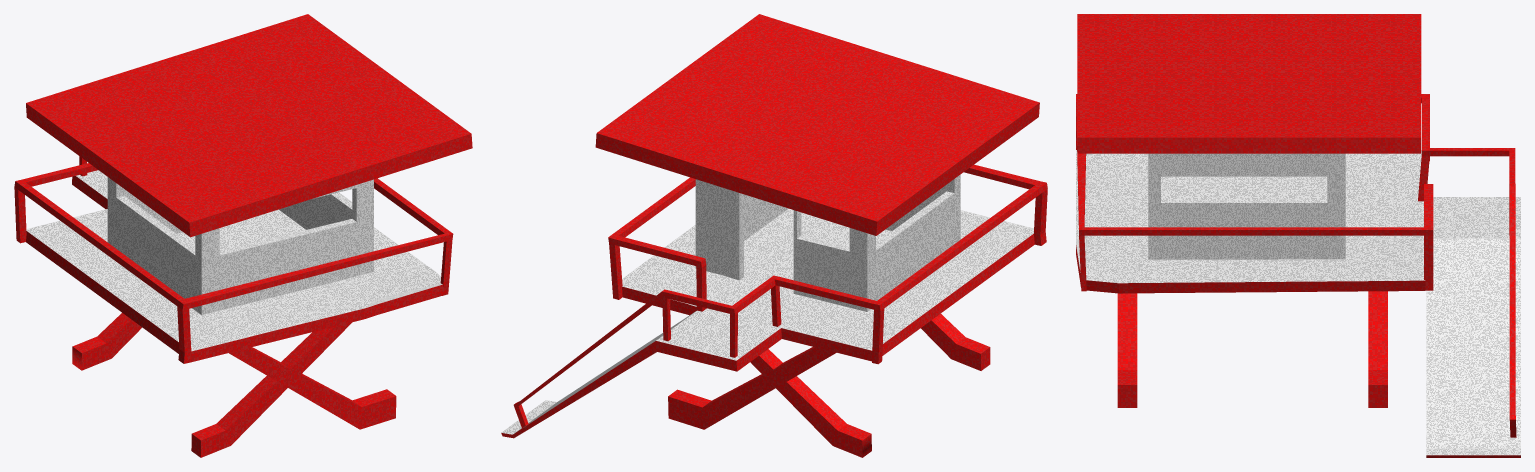
File: BLOCKYGON_BEACH_GUARD_HOUSE  (UPDATED).fbx
The picture shows the model from 3 angles, left to right: view 1: azimuth 30°, elevation 25°; view 2: azimuth 150°, elevation 25°; view 3: azimuth 270°, elevation 25°; orthographic projection. The views are drawn at different scales.
Parts seen in each view (by area): view 1: BLOCKYGON_BEACH_GUARD_HOUSE__2_; view 2: BLOCKYGON_BEACH_GUARD_HOUSE__2_; view 3: BLOCKYGON_BEACH_GUARD_HOUSE__2_.
Part boxes in pixels (left/top/right/bottom): BLOCKYGON_BEACH_GUARD_HOUSE__2_: left=14, top=14, right=472, bottom=457; BLOCKYGON_BEACH_GUARD_HOUSE__2_: left=501, top=14, right=1047, bottom=457; BLOCKYGON_BEACH_GUARD_HOUSE__2_: left=1076, top=14, right=1520, bottom=457.
Size of the model in its own units: 693 by 563 by 751.
